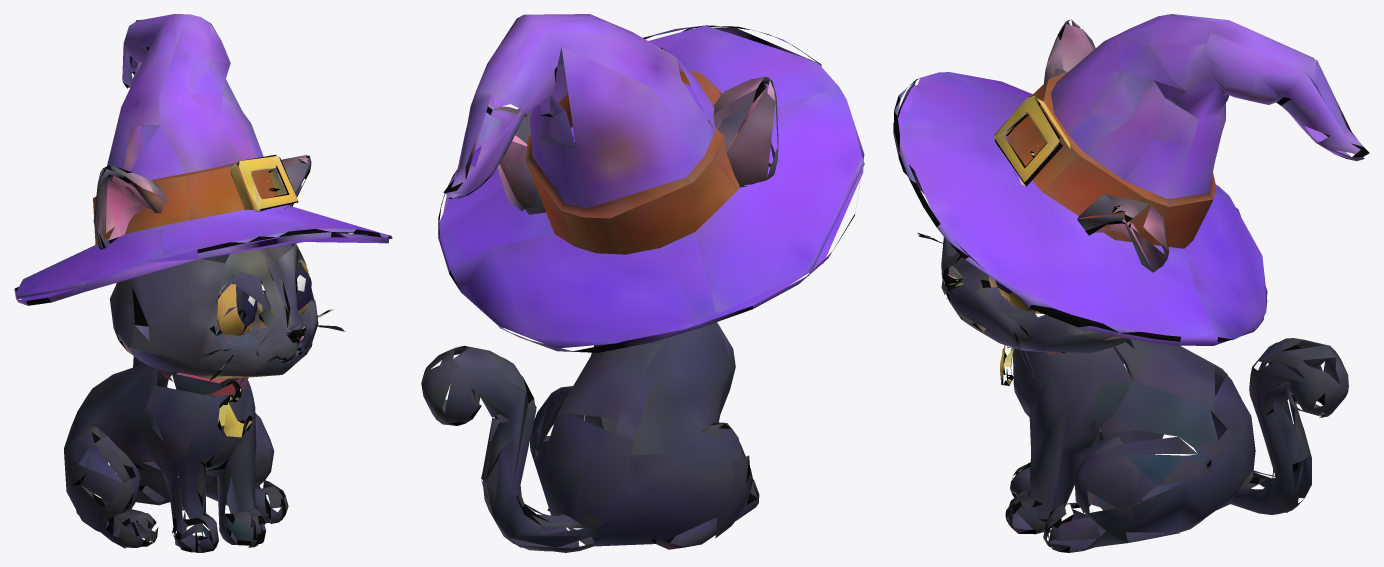
File: kit-witch-cat.lod.glb
3 views of the same model, side by side, from view 1: azimuth 30°, elevation 25°; view 2: azimuth 150°, elevation 25°; view 3: azimuth 270°, elevation 25° (orthographic). The views are drawn at different scales.
Parts seen in each view (by area): view 1: WBA_Character_WitchCat_01_WBA_MAT_Halloween_Atlas_0.001; view 2: WBA_Character_WitchCat_01_WBA_MAT_Halloween_Atlas_0.001; view 3: WBA_Character_WitchCat_01_WBA_MAT_Halloween_Atlas_0.001.
Boxes of the visible parts, x1=… form: WBA_Character_WitchCat_01_WBA_MAT_Halloween_Atlas_0.001: x1=14, y1=14, x2=392, y2=552; WBA_Character_WitchCat_01_WBA_MAT_Halloween_Atlas_0.001: x1=421, y1=14, x2=864, y2=552; WBA_Character_WitchCat_01_WBA_MAT_Halloween_Atlas_0.001: x1=893, y1=14, x2=1369, y2=552.
Bounding box in the file's own units: 0.796 × 1.04 × 0.8636.
Materials: 1 (1 with a texture image).
